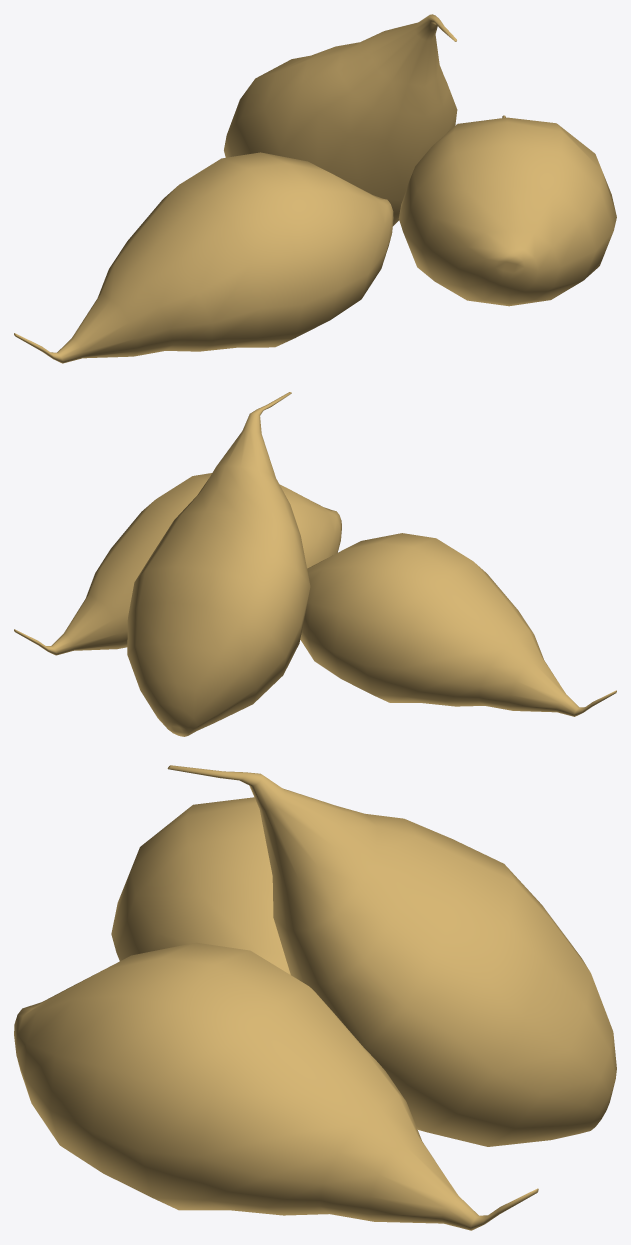
The model's file is Garlic_SmallerPieces.glb.
The picture shows the model from 3 angles, top to bottom: view 1: azimuth 30°, elevation 25°; view 2: azimuth 150°, elevation 25°; view 3: azimuth 270°, elevation 25°; orthographic projection. The views are drawn at different scales.
Parts seen in each view (by area): view 1: Garlic_SmallerPieces; view 2: Garlic_SmallerPieces; view 3: Garlic_SmallerPieces.
Boxes of the visible parts, left/top/right/bottom form: Garlic_SmallerPieces: left=14, top=14, right=616, bottom=363; Garlic_SmallerPieces: left=14, top=392, right=616, bottom=736; Garlic_SmallerPieces: left=14, top=765, right=616, bottom=1230.
Size of the model in its own units: 2.29 by 1.03 by 1.47.
Materials: 1 (1 with a texture image).
